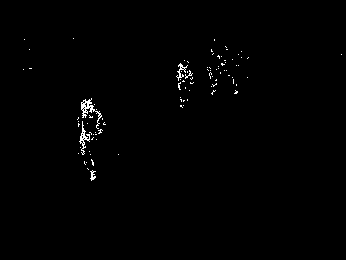person: (73, 97, 107, 180), (176, 59, 194, 108)
